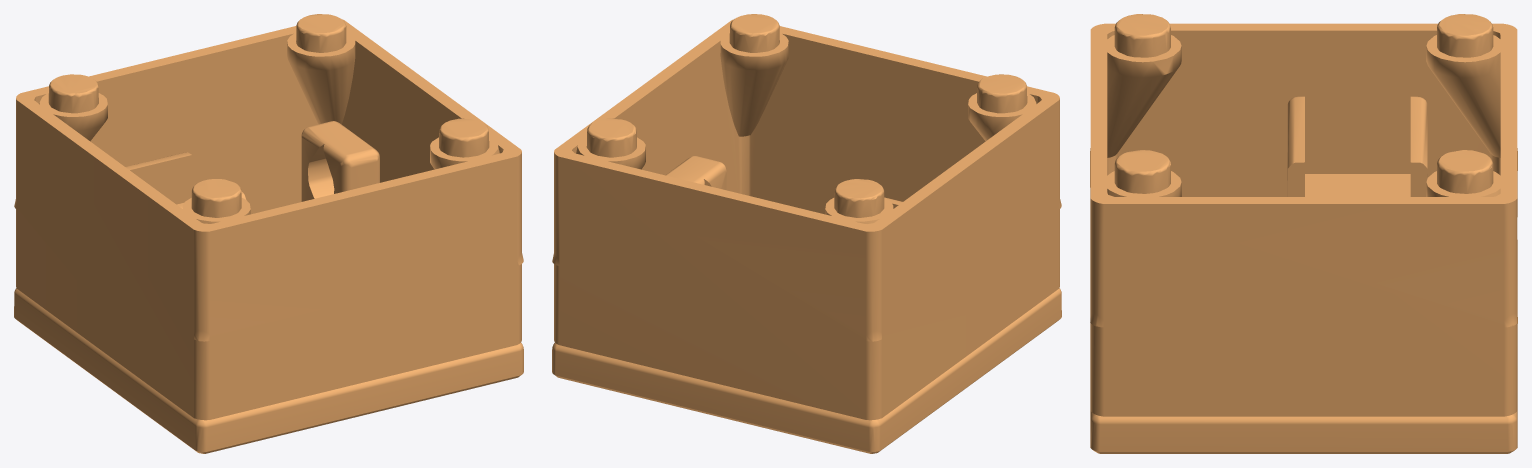
The model's file is mech-drive-tray.glb.
The picture shows the model from 3 angles, left to right: view 1: azimuth 30°, elevation 25°; view 2: azimuth 150°, elevation 25°; view 3: azimuth 270°, elevation 25°; orthographic projection. The views are drawn at different scales.
Visible parts, largest first — view 1: mech-drive-tray; view 2: mech-drive-tray; view 3: mech-drive-tray.
Part boxes in pixels (<box>): mech-drive-tray: <box>14,14,523,453</box>; mech-drive-tray: <box>552,14,1061,453</box>; mech-drive-tray: <box>1090,14,1517,453</box>.
Bounding box in the file's own units: 0.0498 × 0.035 × 0.0498.
